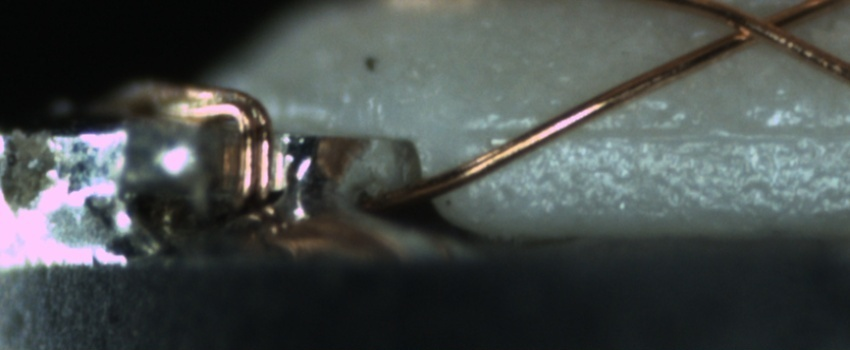CL: (718, 3, 808, 51)
DL: (464, 101, 849, 162)
TE: (104, 74, 282, 206)
